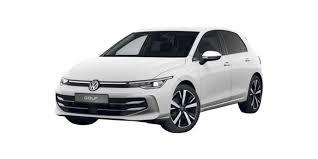volkswagen: (87, 76, 101, 93)
